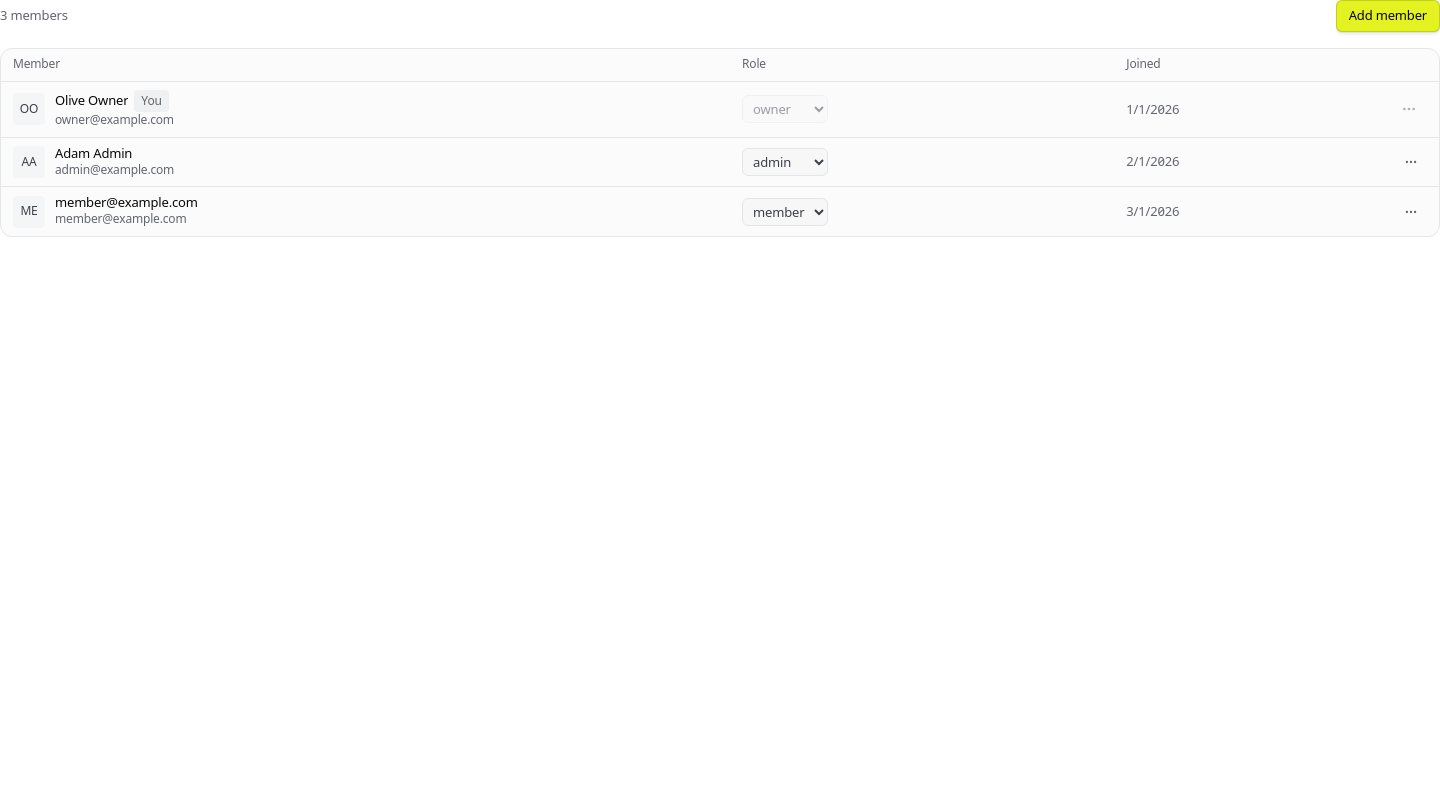
Test: MembersPanel › offers the owner role to an owner
Check: the text "owner@example.com" is shown, box [55, 112, 174, 129]
Click the button "Add member": (1388, 16) [1336, 0, 1439, 32]
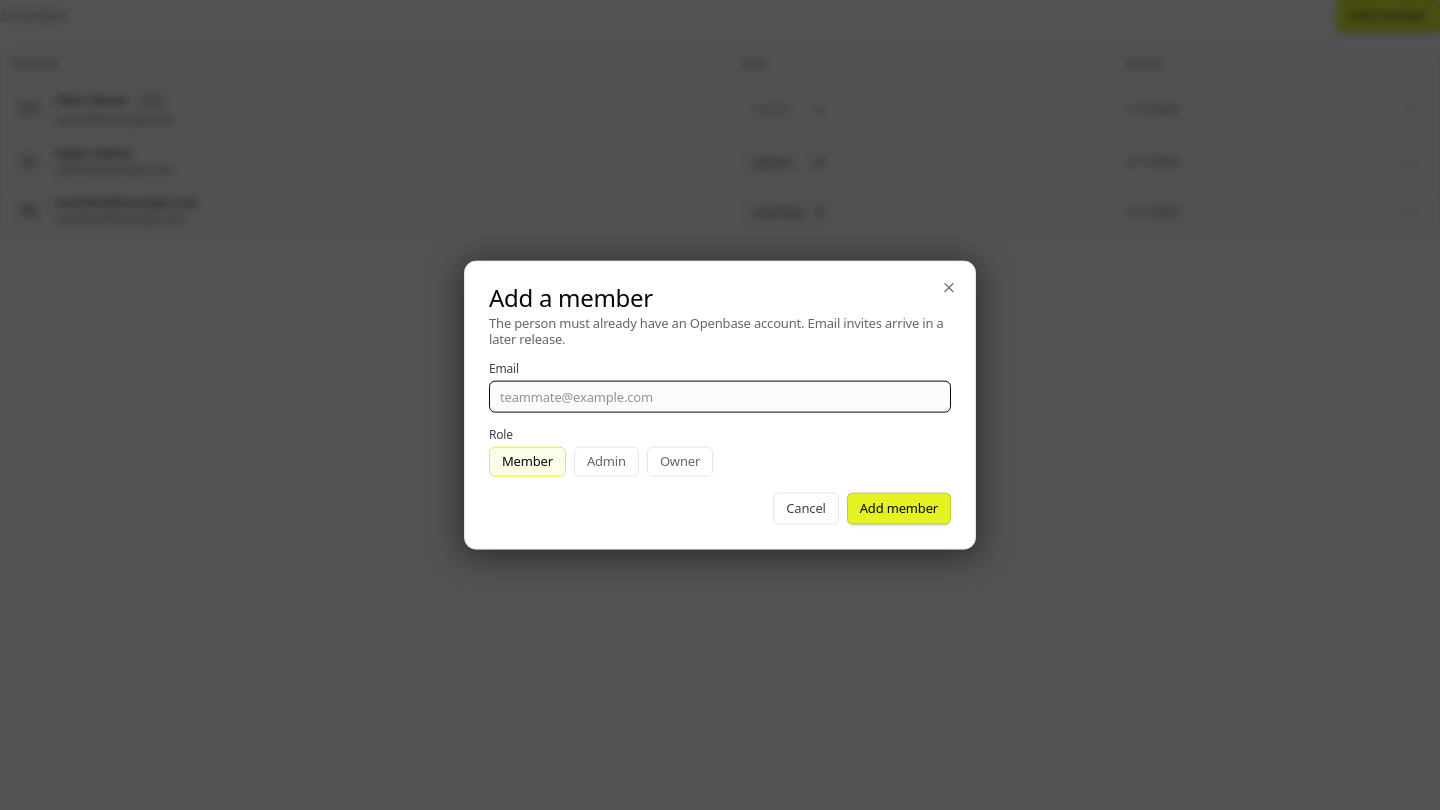
Check: the button "Owner" is shown, box [647, 447, 713, 476]
